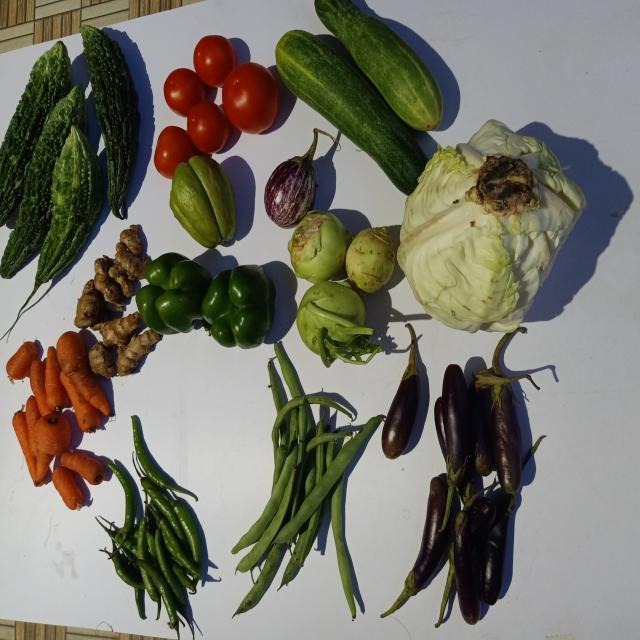Bitter Gourd: (16, 125, 103, 319), (0, 85, 87, 278), (315, 0, 443, 130), (0, 40, 71, 226), (79, 23, 140, 219)
Brinjal: (382, 323, 420, 460), (442, 365, 470, 519), (454, 512, 481, 625), (381, 568, 420, 619)
Cabbage: (398, 119, 586, 332)
Capsicum: (201, 265, 275, 349)
Carrot: (55, 331, 111, 416), (59, 371, 100, 433), (11, 410, 40, 487), (60, 451, 104, 485), (51, 467, 83, 511), (29, 360, 53, 416), (5, 341, 38, 380), (24, 396, 41, 457)
Chayote: (169, 155, 236, 248)
Cucumber: (275, 29, 429, 194), (315, 0, 444, 130)
Green Chilly: (131, 420, 198, 506), (136, 559, 178, 628), (158, 518, 201, 580), (106, 462, 136, 548), (169, 500, 202, 568)
Turnip: (288, 211, 395, 291), (297, 281, 383, 367)
